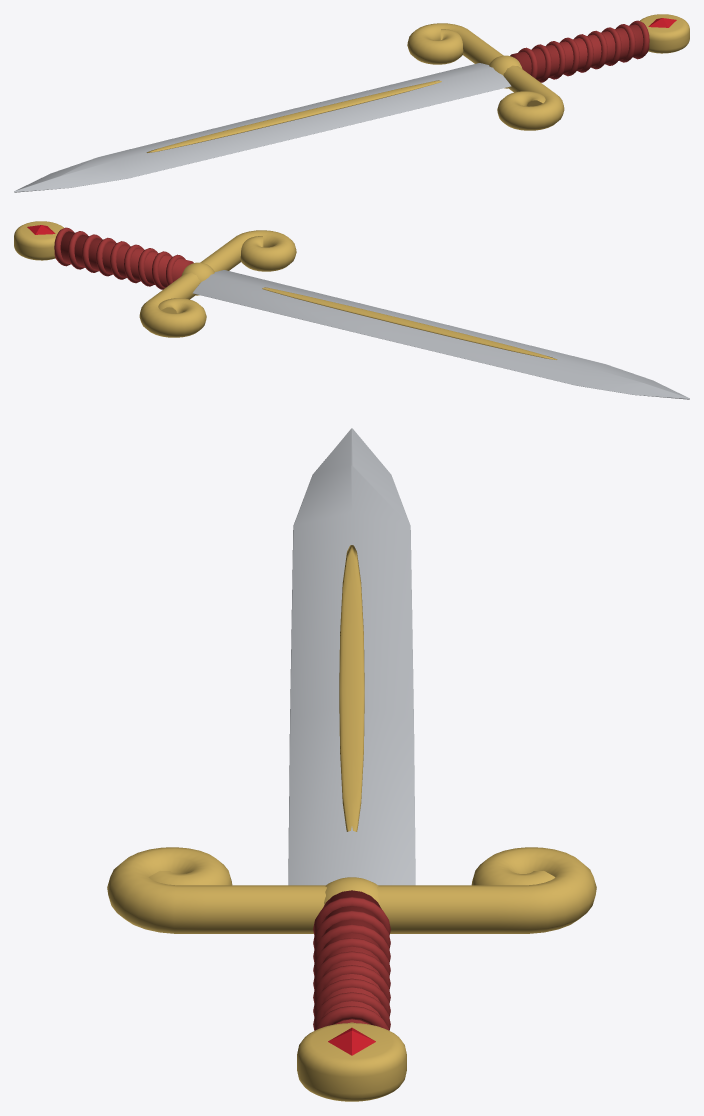
Rendered from royal_blade.glb.
The picture shows the model from 3 angles, top to bottom: view 1: azimuth 30°, elevation 25°; view 2: azimuth 150°, elevation 25°; view 3: azimuth 270°, elevation 25°; orthographic projection. The views are drawn at different scales.
Visible parts, largest first — view 1: royal_blade; view 2: royal_blade; view 3: royal_blade.
Part boxes in pixels (left/top/right/bottom): royal_blade: left=14, top=14, right=689, bottom=192; royal_blade: left=14, top=221, right=689, bottom=399; royal_blade: left=107, top=428, right=596, bottom=1101.
Size of the model in its own units: 1.02 by 0.0499 by 0.3212.
